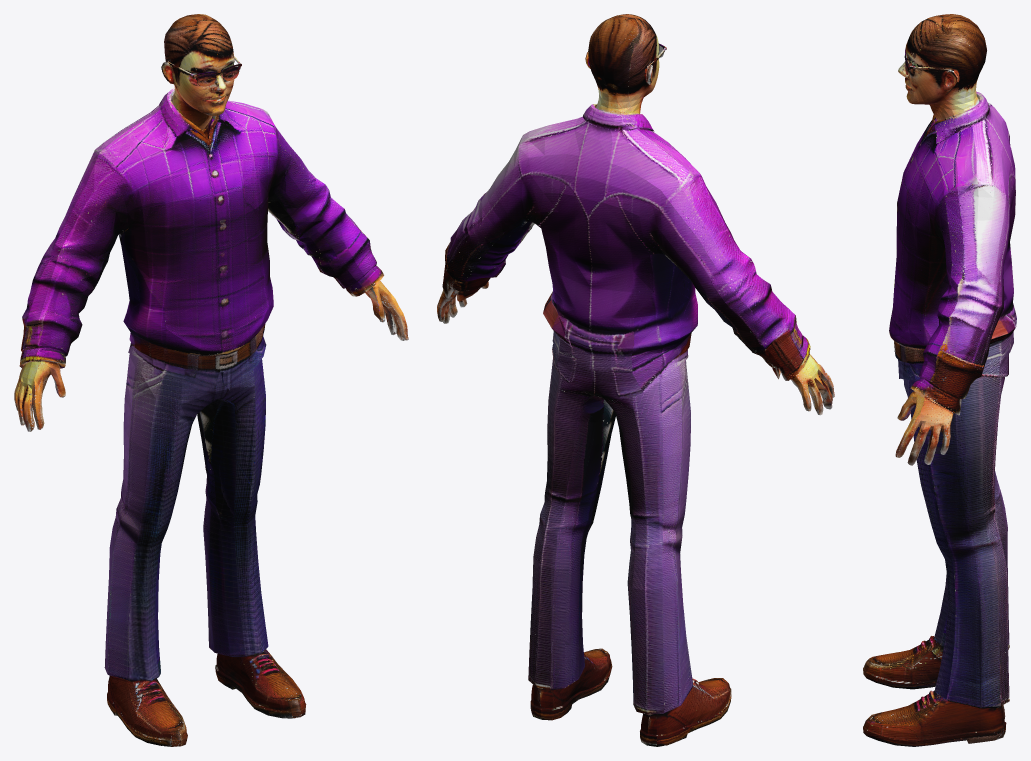
The model's file is textured_ours.glb.
3 renders of one model, left to right at view 1: azimuth 30°, elevation 25°; view 2: azimuth 150°, elevation 25°; view 3: azimuth 270°, elevation 25°, orthographic.
Parts seen in each view (by area): view 1: Node; view 2: Node; view 3: Node.
Boxes of the visible parts, x1,y1,x2,y2 form: Node: (14, 14, 408, 746); Node: (437, 14, 834, 746); Node: (863, 14, 1016, 746).
Bounding box in the file's own units: 1.16 × 2 × 0.4032.
Materials: 1 (1 with a texture image).
